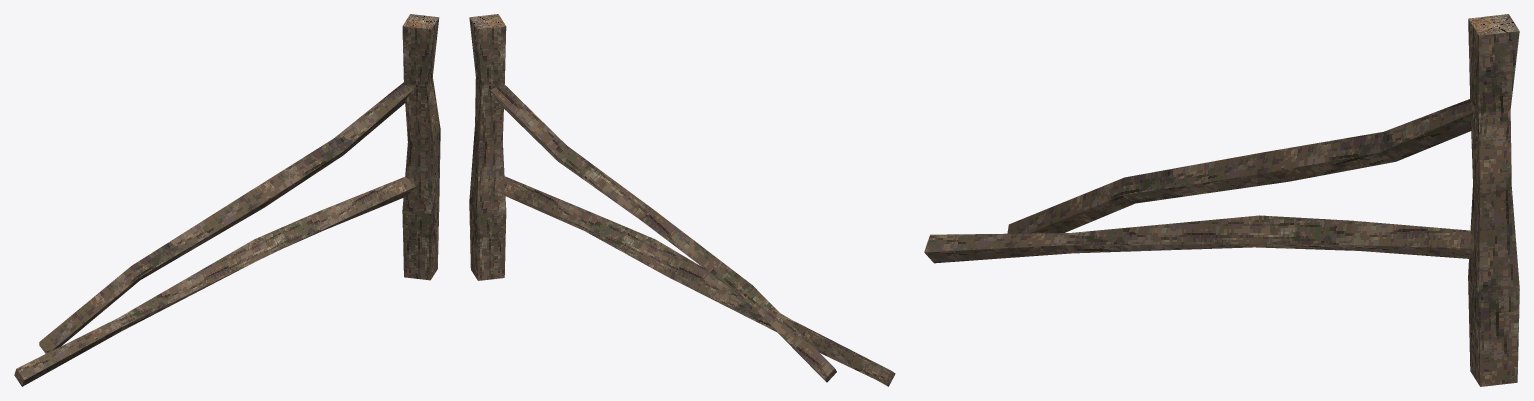
Rendered from wooden_fence_broken.glb.
The picture shows the model from 3 angles, left to right: view 1: azimuth 30°, elevation 25°; view 2: azimuth 150°, elevation 25°; view 3: azimuth 330°, elevation 25°; orthographic projection. The views are drawn at different scales.
Parts seen in each view (by area): view 1: wooden_fence_broken; view 2: wooden_fence_broken; view 3: wooden_fence_broken.
Part boxes in pixels (box(x1,y1,x2,y2)): wooden_fence_broken: box(14, 14, 440, 386); wooden_fence_broken: box(469, 14, 895, 386); wooden_fence_broken: box(924, 14, 1519, 386).
Size of the model in its own units: 2.11 by 1.27 by 0.2924.
Materials: 1 (1 with a texture image).
